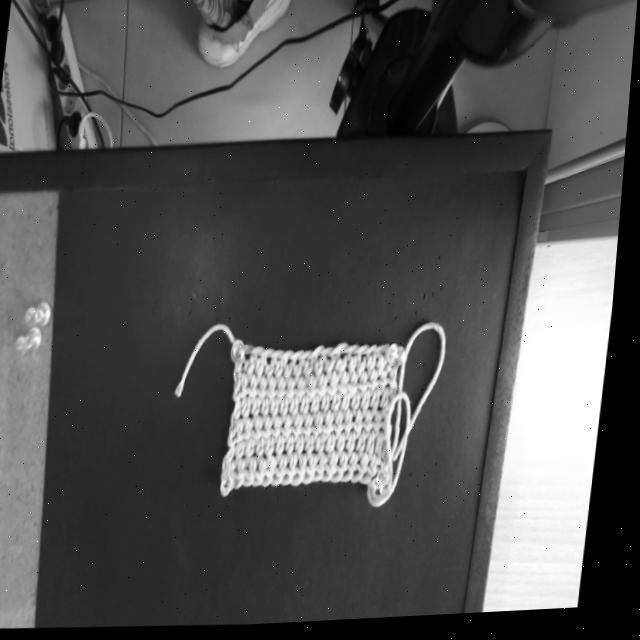ch: (331, 346, 355, 359), (313, 348, 331, 364), (357, 349, 376, 359), (346, 348, 366, 357), (368, 348, 384, 359), (303, 353, 319, 363), (252, 349, 271, 357), (295, 353, 311, 362), (264, 351, 282, 359), (378, 348, 396, 356), (323, 351, 341, 358), (283, 354, 300, 361), (273, 354, 290, 360)
hdc: (368, 457, 387, 489), (348, 454, 366, 487), (289, 455, 306, 488), (278, 456, 295, 489), (359, 456, 377, 487), (329, 453, 346, 485), (339, 454, 356, 486), (269, 457, 285, 490), (299, 456, 314, 489), (311, 456, 325, 488), (260, 459, 274, 490), (328, 357, 343, 385), (251, 459, 265, 489), (328, 413, 341, 444), (259, 356, 271, 389), (332, 374, 345, 404), (371, 373, 385, 400), (307, 361, 320, 390), (321, 456, 334, 485), (272, 438, 283, 472), (248, 420, 260, 451), (258, 418, 270, 449), (298, 415, 310, 446), (249, 357, 262, 385), (253, 376, 264, 409), (349, 412, 360, 445), (308, 416, 320, 446), (277, 417, 289, 447), (359, 412, 370, 444), (319, 414, 330, 446), (363, 433, 374, 465), (353, 356, 367, 381), (311, 377, 323, 406), (287, 417, 299, 446), (263, 377, 274, 408), (369, 412, 380, 443), (242, 461, 253, 492), (241, 420, 251, 454), (298, 361, 310, 389), (269, 359, 281, 387), (281, 378, 292, 408), (366, 392, 377, 422), (268, 418, 279, 448), (344, 374, 356, 401), (321, 377, 333, 404), (230, 448, 242, 475), (377, 390, 387, 422), (373, 433, 383, 465), (248, 397, 258, 429), (342, 354, 353, 383), (272, 379, 283, 408), (332, 436, 343, 465), (242, 443, 253, 472), (245, 375, 254, 410), (300, 380, 312, 406), (280, 359, 290, 390), (386, 391, 396, 422), (340, 413, 350, 444), (353, 434, 363, 464), (252, 441, 262, 471), (382, 434, 391, 467), (364, 374, 374, 403), (258, 398, 267, 430), (353, 375, 364, 401), (320, 357, 330, 385), (338, 396, 348, 424), (379, 414, 389, 442), (296, 399, 306, 427), (267, 398, 277, 426), (292, 438, 302, 466), (323, 437, 333, 465), (383, 374, 394, 399), (382, 355, 393, 380), (394, 371, 404, 398), (291, 380, 301, 407), (357, 393, 367, 420), (343, 436, 353, 463), (312, 437, 322, 464), (307, 398, 316, 427), (283, 438, 292, 467), (263, 440, 272, 469), (347, 396, 357, 422), (290, 360, 299, 388), (277, 400, 286, 428), (372, 356, 382, 381), (317, 397, 326, 424), (287, 399, 296, 426), (328, 396, 337, 422), (303, 437, 312, 463), (363, 356, 372, 381), (240, 403, 247, 432)
